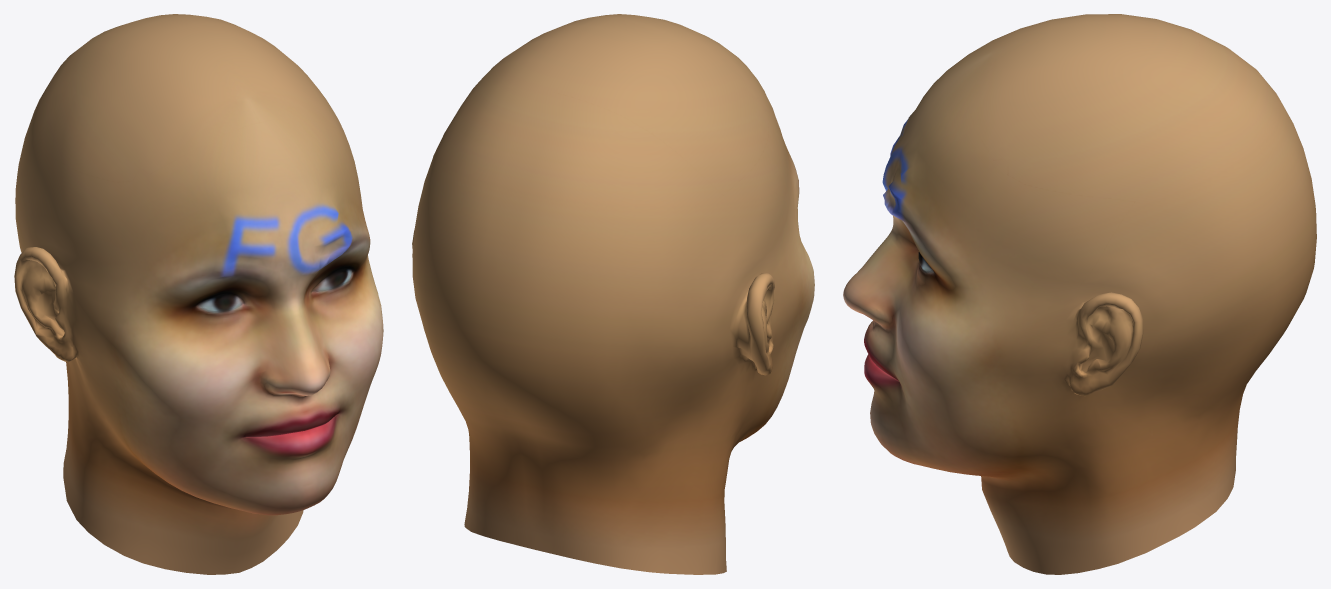
File: avg_anyrace_female_19.obj
The picture shows the model from 3 angles, left to right: view 1: azimuth 30°, elevation 25°; view 2: azimuth 150°, elevation 25°; view 3: azimuth 270°, elevation 25°; orthographic projection. The views are drawn at different scales.
Visible parts, largest first — view 1: HeadHires; view 2: HeadHires; view 3: HeadHires.
Part boxes in pixels (box(x1,y1,x2,y2)): HeadHires: box(14, 14, 383, 574); HeadHires: box(412, 14, 814, 574); HeadHires: box(843, 14, 1316, 574).
Bounding box in the file's own units: 190 × 283 × 233.
3 materials, 3 textured.
